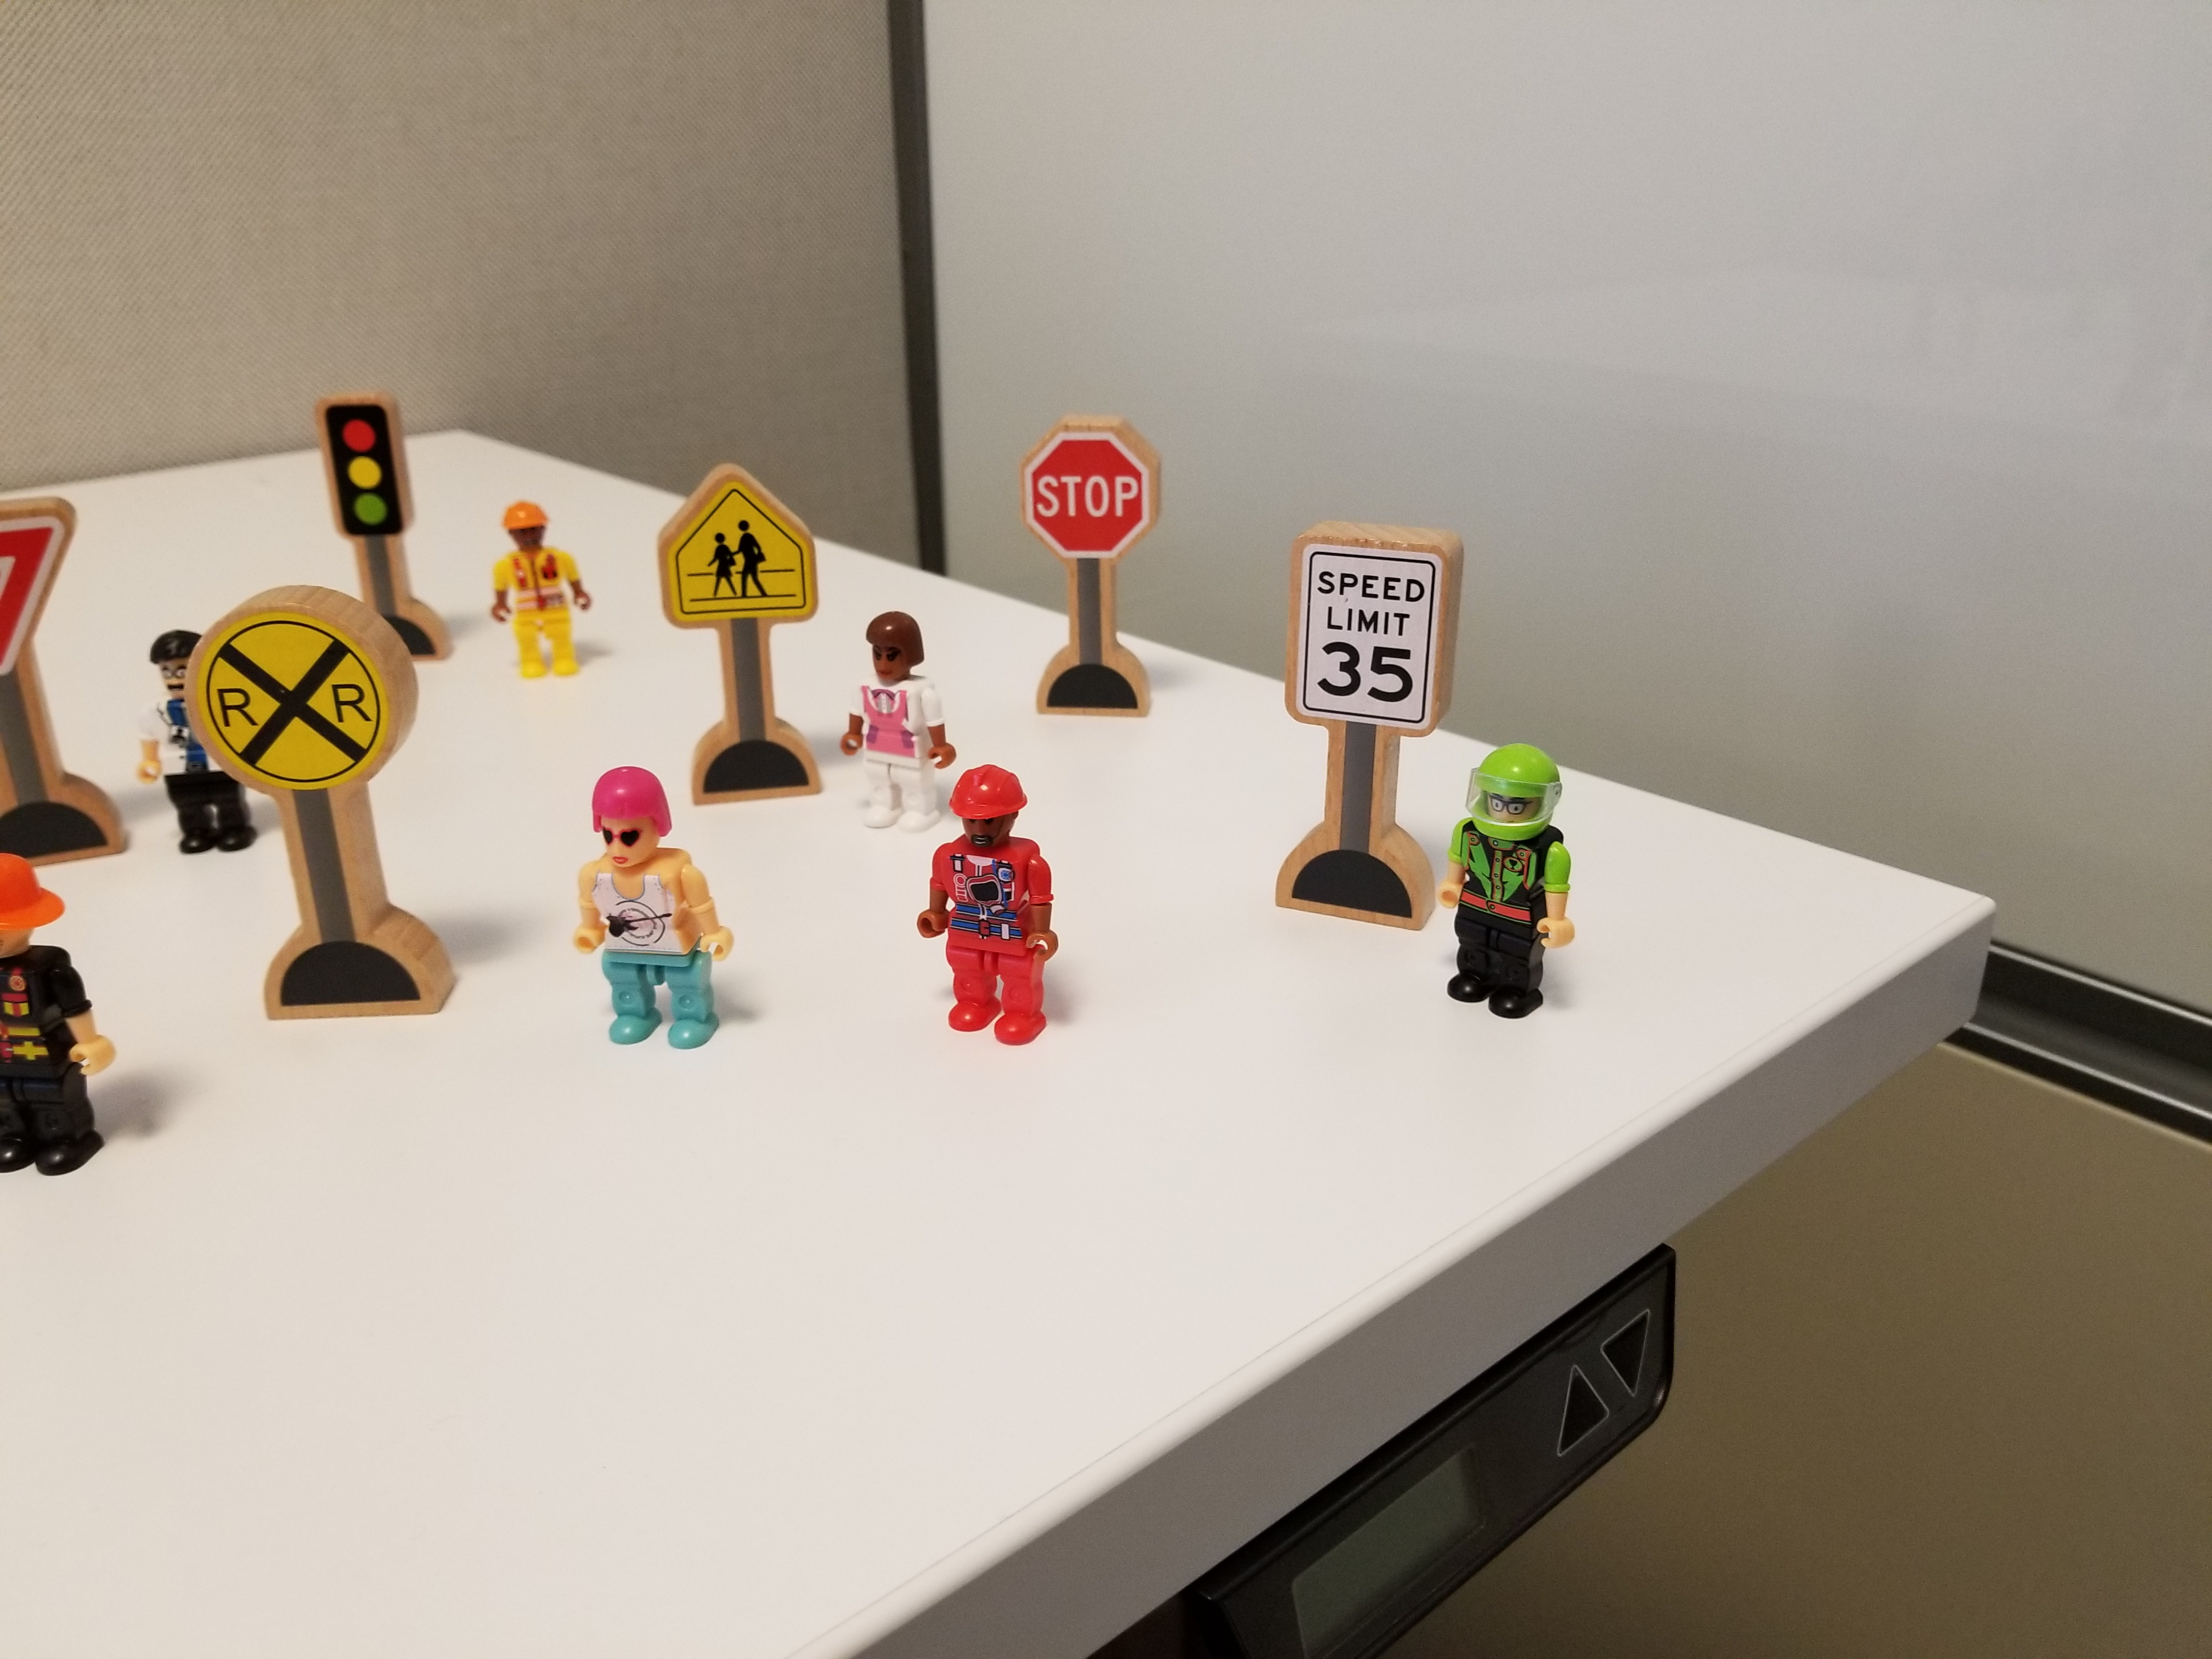Pedestrian crossing: (627, 447, 824, 804)
Railroad Crossing: (168, 578, 451, 1022)
Speed limit 35: (1269, 508, 1452, 936)
Stop: (1002, 418, 1182, 730)
Traffic Light: (300, 379, 451, 556)
person: (539, 756, 745, 1072), (910, 763, 1103, 1057), (1443, 736, 1596, 1052), (466, 488, 635, 692), (837, 598, 971, 826)
